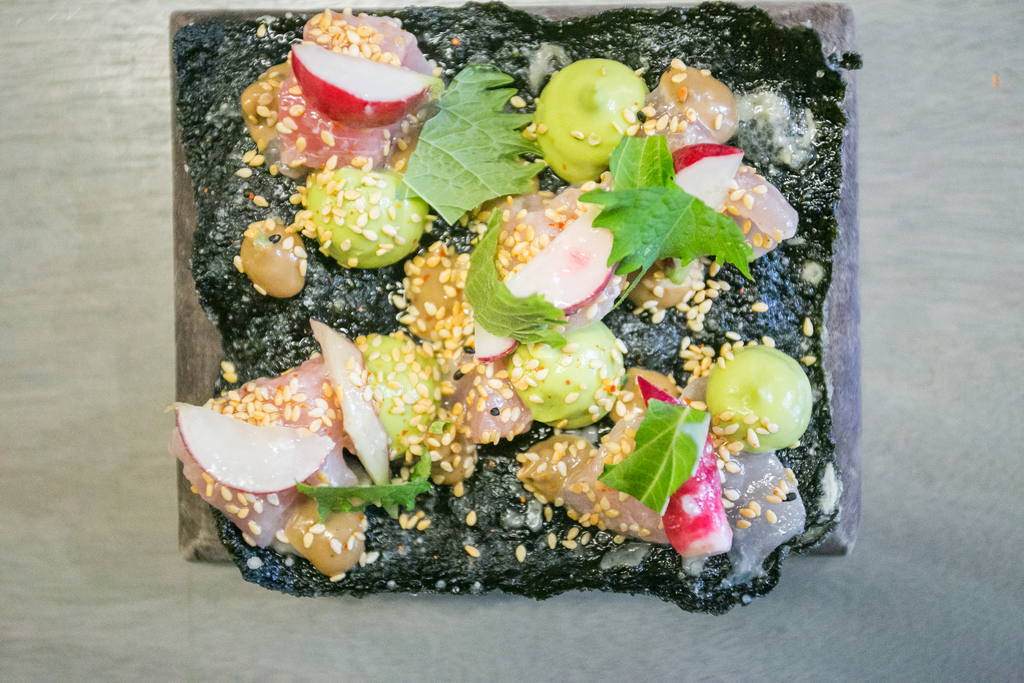sushi: (163, 25, 847, 554)
